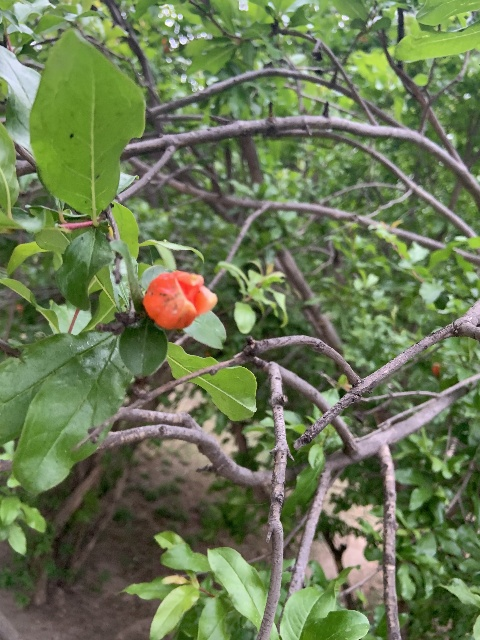flower: (143, 270, 217, 330)
